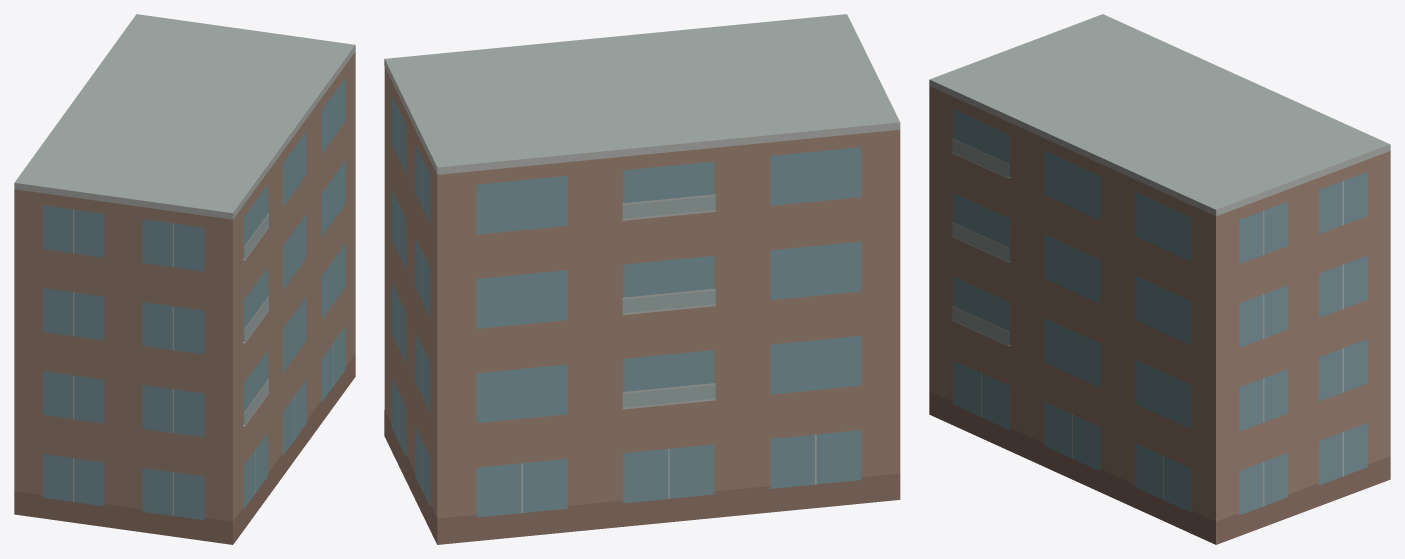
The model's file is survey-upis-32840182.glb.
3 renders of one model, left to right at view 1: azimuth 30°, elevation 25°; view 2: azimuth 150°, elevation 25°; view 3: azimuth 270°, elevation 25°, orthographic. The views are drawn at different scales.
Visible parts, largest first — view 1: survey-upis-32840182.tmp; view 2: survey-upis-32840182.tmp; view 3: survey-upis-32840182.tmp.
Part boxes in pixels (x1,y1,x2,y2): survey-upis-32840182.tmp: (14,14,355,544); survey-upis-32840182.tmp: (384,14,900,544); survey-upis-32840182.tmp: (929,14,1390,544).
Size of the model in its own units: 15.87 by 12.65 by 15.79.
